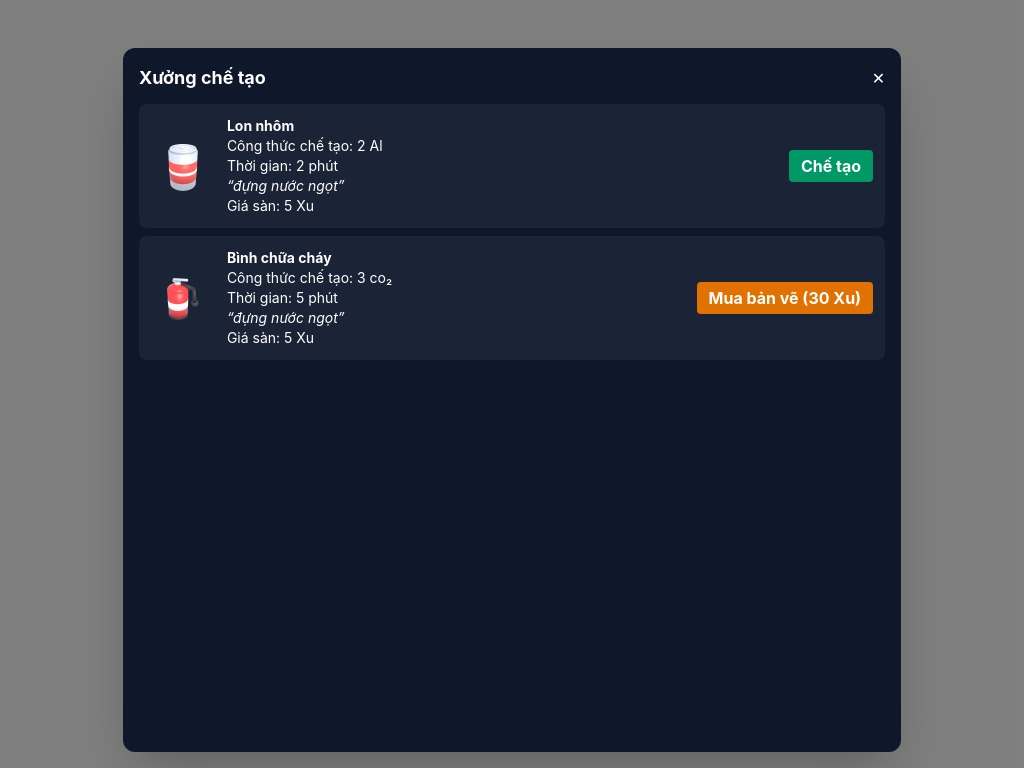
Test: start refusal SLOTS_FULL shows copy
Click the button "Chế tạo" at {"x": 831, "y": 166}, box [789,150,873,182]
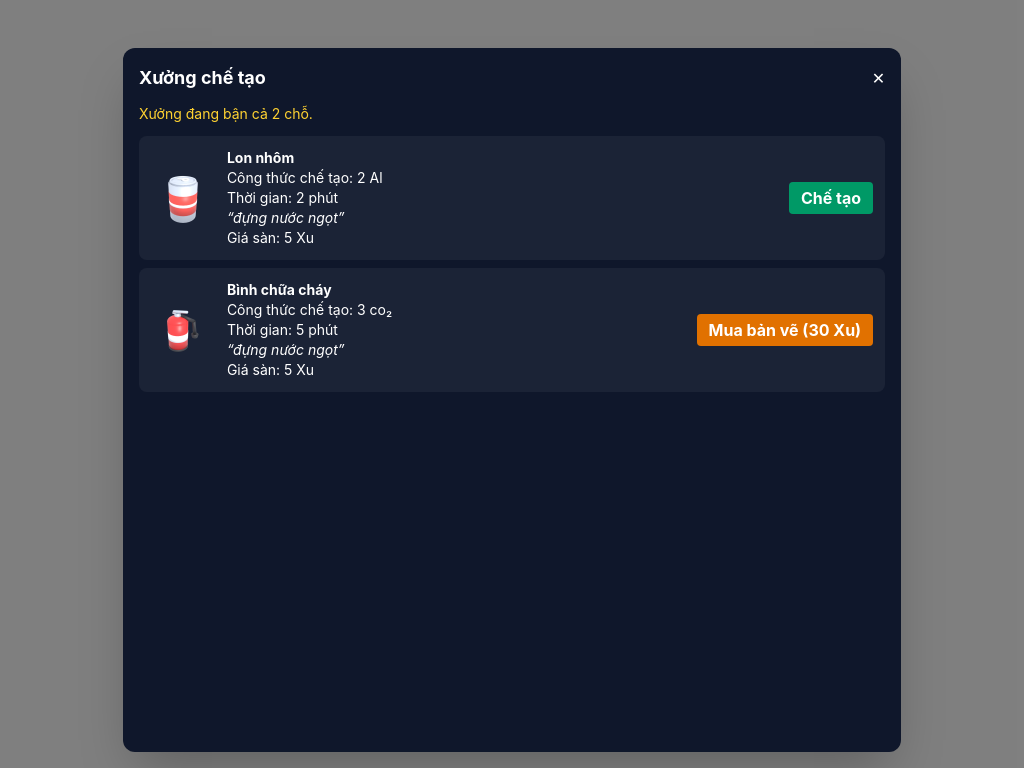
Check: the message reads "Xưởng đang bận cả 2 chỗ.", box [139,105,313,122]
